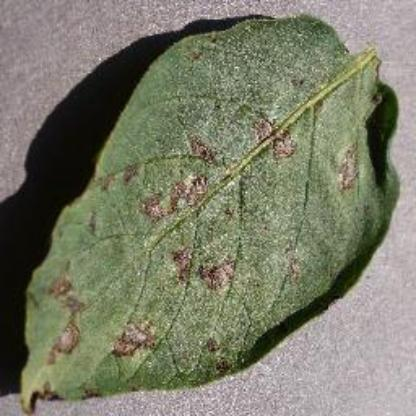Early-Blight: (20, 11, 400, 411)
